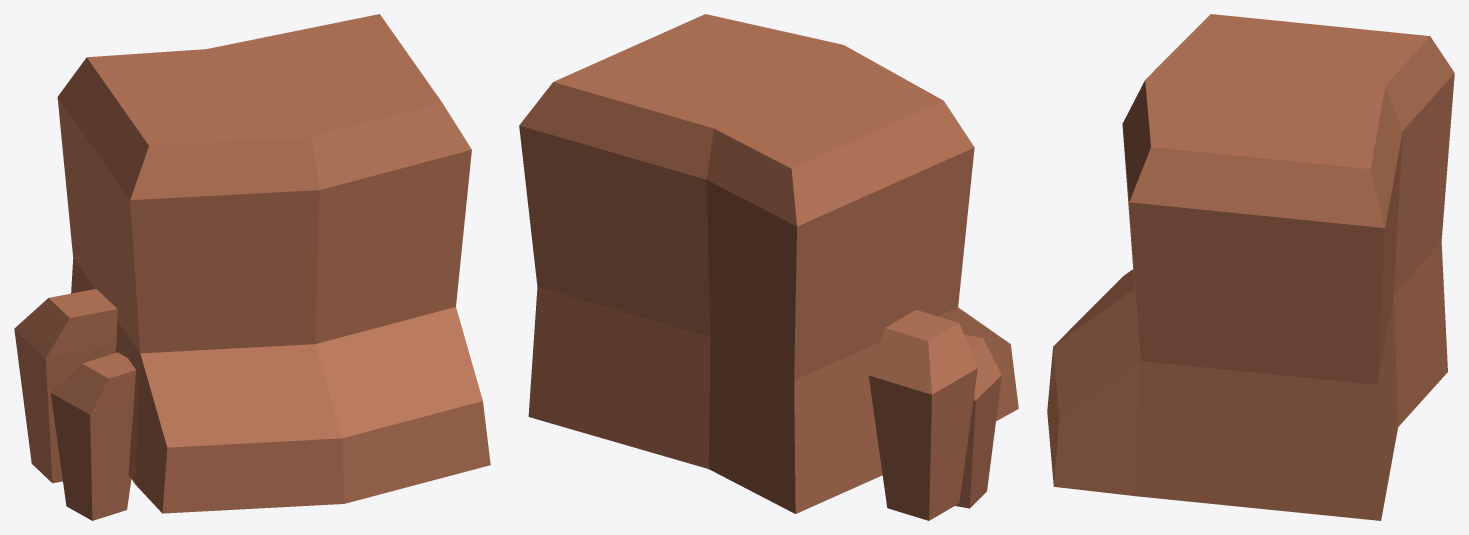
The model's file is rock_canyon.gltf.
3 renders of one model, left to right at view 1: azimuth 30°, elevation 25°; view 2: azimuth 150°, elevation 25°; view 3: azimuth 270°, elevation 25°, orthographic. The views are drawn at different scales.
Visible parts, largest first — view 1: Rock Type6 03 mesh.001; view 2: Rock Type6 03 mesh.001; view 3: Rock Type6 03 mesh.001.
Boxes of the visible parts, x1,y1,x2,y2 form: Rock Type6 03 mesh.001: (14, 14, 490, 520); Rock Type6 03 mesh.001: (519, 14, 1018, 520); Rock Type6 03 mesh.001: (1047, 14, 1454, 520).
Size of the model in its own units: 3.19 by 2.78 by 2.7.
